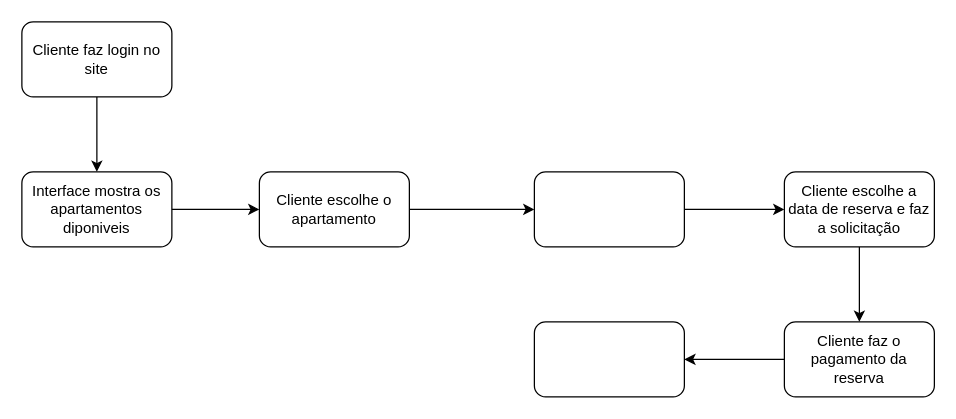
The diagram is 956 pixels wide and 419 high, and some of its shapes have lost their labels. Here are the shapes that lost their labels. From the top down, the box of each, then its label:
(533, 171, 684, 247): Interface mostra os detalhes do apartamento escolhido
(533, 321, 684, 397): Site envia um email confirmando a reserva
